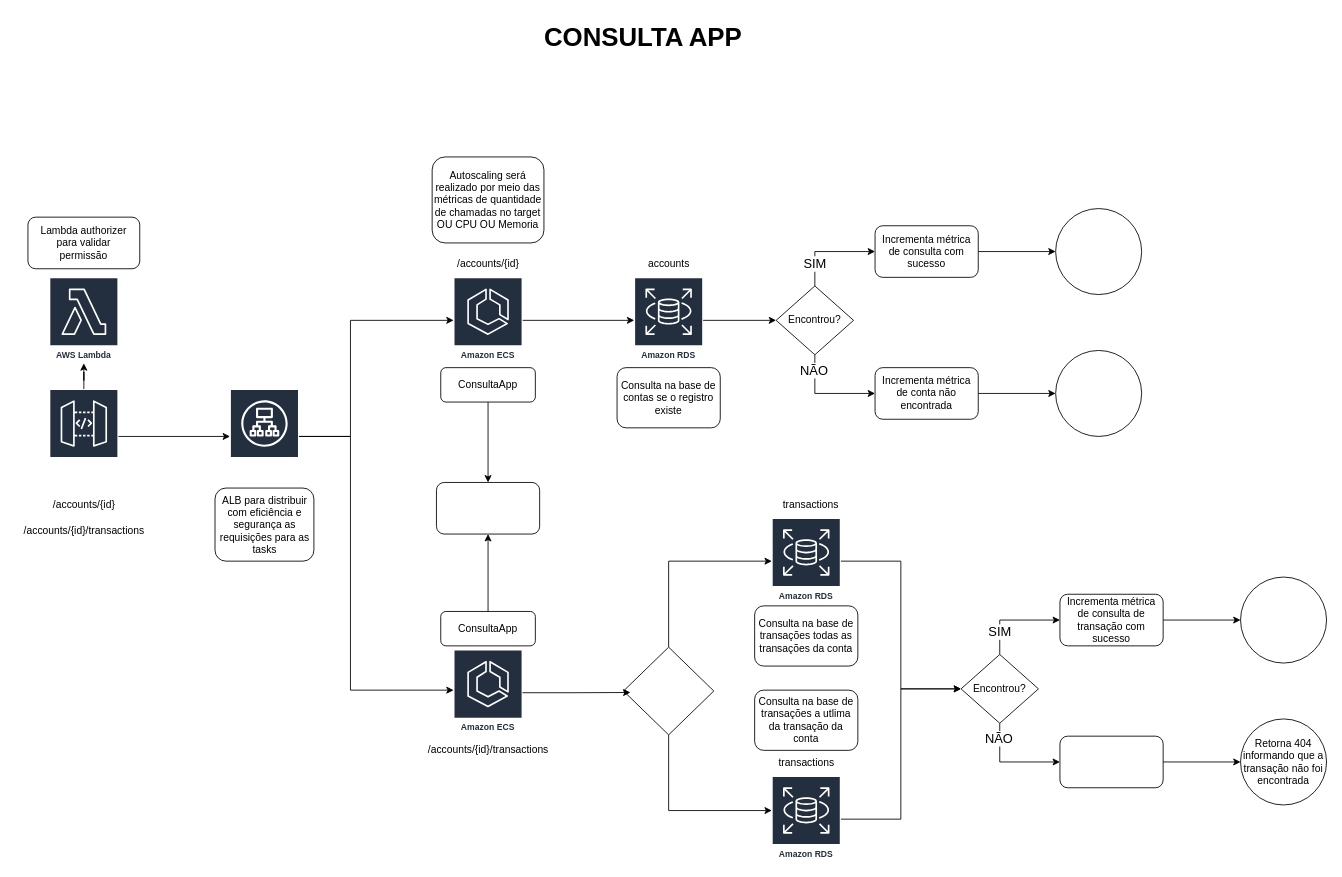
Some shapes in this 1342 by 877 pixel diagram are drawn without their labels. Each missing label, with the box of its shape:
Amazon API Gateway: (49, 388, 118, 484)
Application Load Balancer: (229, 388, 299, 484)
Conectada no postgres de leitura (replica): (436, 482, 540, 534)
Consultar todas as transações?: (623, 646, 714, 735)
Incrementa métrica de consulta de transação não encontrada: (1059, 735, 1163, 788)
Retorna 200 com a lista de transações ou lista com a última transação: (1240, 576, 1327, 663)
Retorna 200 com dados de saldo da conta: (1055, 208, 1142, 295)
Retorna 404 informando que a conta não foi encontrada: (1055, 350, 1142, 436)
